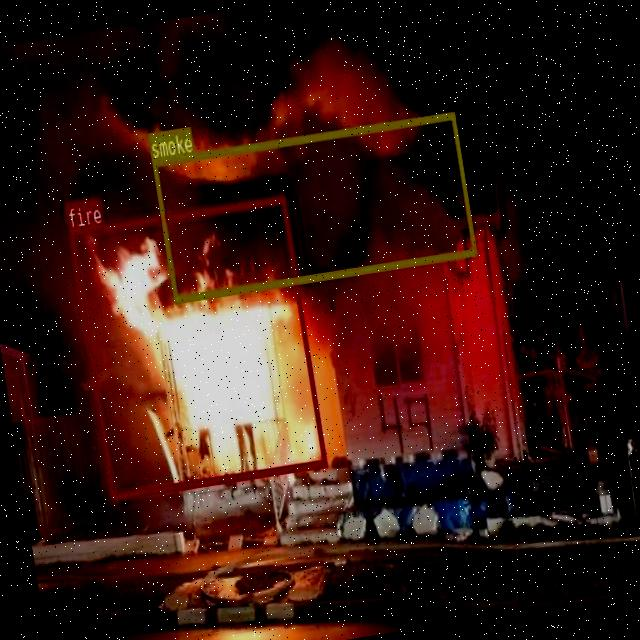fire: (68, 195, 327, 500)
smoke: (151, 111, 476, 302)
